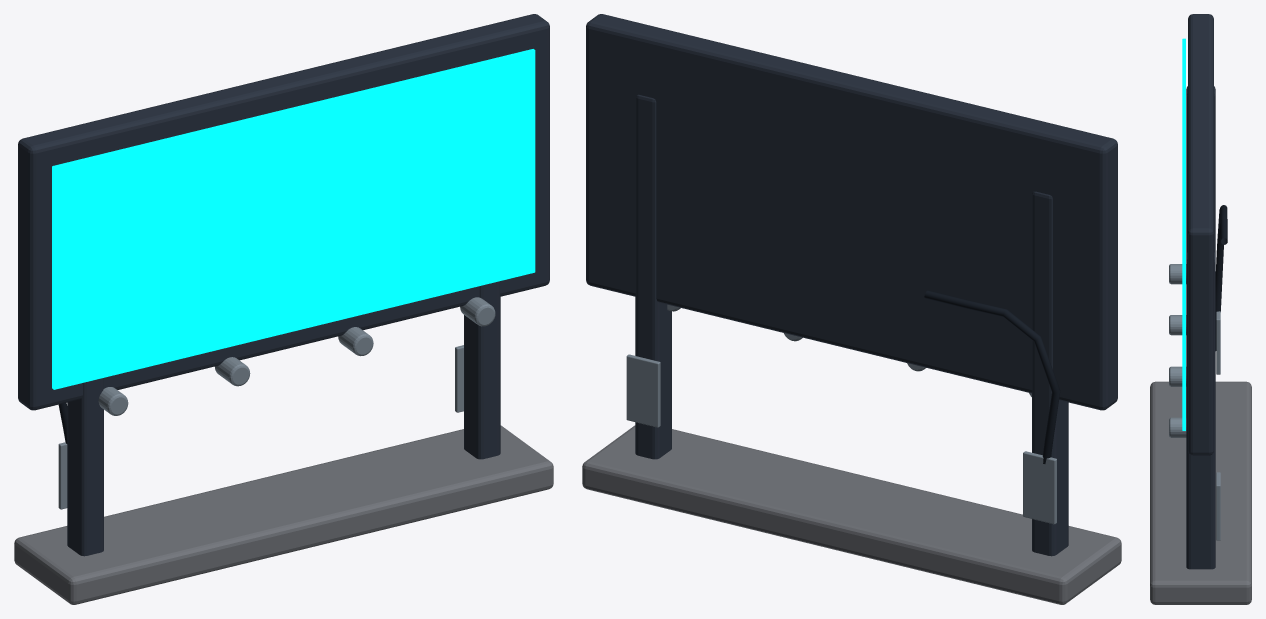
Rendered from prop_menu_board_digital_a_v01.glb.
3 views of the same model, side by side, from view 1: azimuth 30°, elevation 25°; view 2: azimuth 150°, elevation 25°; view 3: azimuth 270°, elevation 25° (orthographic). The views are drawn at different scales.
Parts seen in each view (by area): view 1: component__display_plane__display_plane, component__foundation_or_wall_mount__foundation, component__support_frame__display_frame, component__support_frame__support_post.001, component__support_frame__support_post, component__projector_or_emitter_hardware__emitter_hardware.0 (×2), component__projector_or_emitter_hardware__emitter_hardware; view 2: component__support_frame__display_frame, component__foundation_or_wall_mount__foundation, component__support_frame__support_post, component__support_frame__support_post.001, component__service_access__service_access, component__service_access__service_access.001, component__cable_routing__cable_routing; view 3: component__foundation_or_wall_mount__foundation, component__support_frame__display_frame, component__support_frame__support_post, component__display_plane__display_plane, component__cable_routing__cable_routing, component__projector_or_emitter_hardware__emitter_hardware.0 (×3), component__support_frame__support_post.001, component__service_access__service_access, component__projector_or_emitter_hardware__emitter_hardware, component__service_access__service_access.001.
Boxes of the visible parts, x1,y1,x2,y2 form: component__display_plane__display_plane: [52, 49, 535, 389]; component__foundation_or_wall_mount__foundation: [14, 425, 553, 604]; component__support_frame__display_frame: [18, 14, 549, 410]; component__support_frame__support_post.001: [67, 378, 103, 556]; component__support_frame__support_post: [464, 281, 500, 459]; component__projector_or_emitter_hardware__emitter_hardware.0 (×2): [214, 327, 373, 386]; component__projector_or_emitter_hardware__emitter_hardware: [460, 297, 495, 326]; component__support_frame__display_frame: [586, 14, 1117, 410]; component__foundation_or_wall_mount__foundation: [582, 425, 1121, 604]; component__support_frame__support_post: [635, 94, 671, 459]; component__support_frame__support_post.001: [1032, 191, 1068, 556]; component__service_access__service_access: [626, 354, 660, 427]; component__service_access__service_access.001: [1023, 451, 1056, 524]; component__cable_routing__cable_routing: [924, 290, 1060, 463]; component__foundation_or_wall_mount__foundation: [1150, 381, 1251, 604]; component__support_frame__display_frame: [1188, 14, 1213, 455]; component__support_frame__support_post: [1186, 252, 1215, 569]; component__display_plane__display_plane: [1182, 38, 1185, 430]; component__cable_routing__cable_routing: [1215, 205, 1227, 350]; component__projector_or_emitter_hardware__emitter_hardware.0 (×3): [1169, 264, 1186, 386]; component__support_frame__support_post.001: [1186, 86, 1215, 254]; component__service_access__service_access: [1216, 472, 1220, 540]; component__projector_or_emitter_hardware__emitter_hardware: [1169, 417, 1186, 437]; component__service_access__service_access.001: [1216, 311, 1220, 374].
Bounding box in the file's own units: 3.55 × 2.91 × 0.7.
